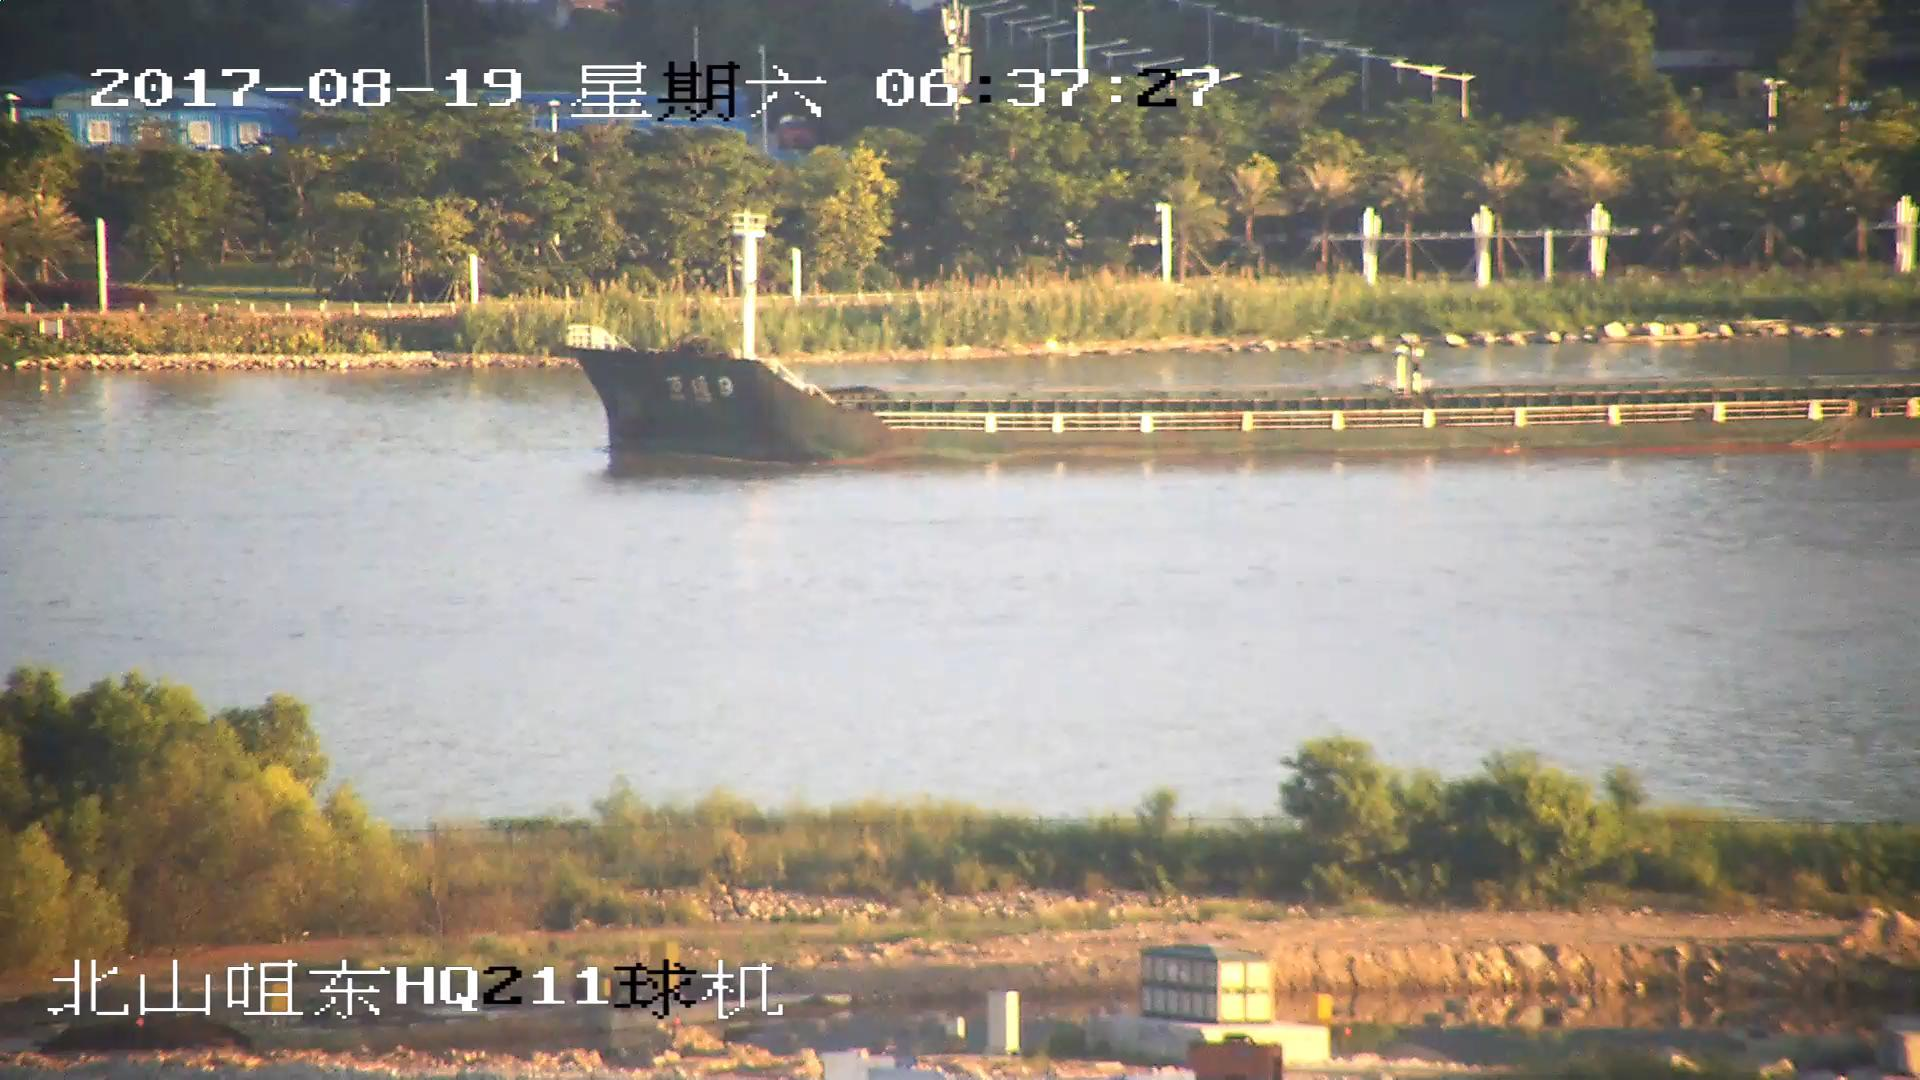Ship: (568, 229, 1920, 469)
